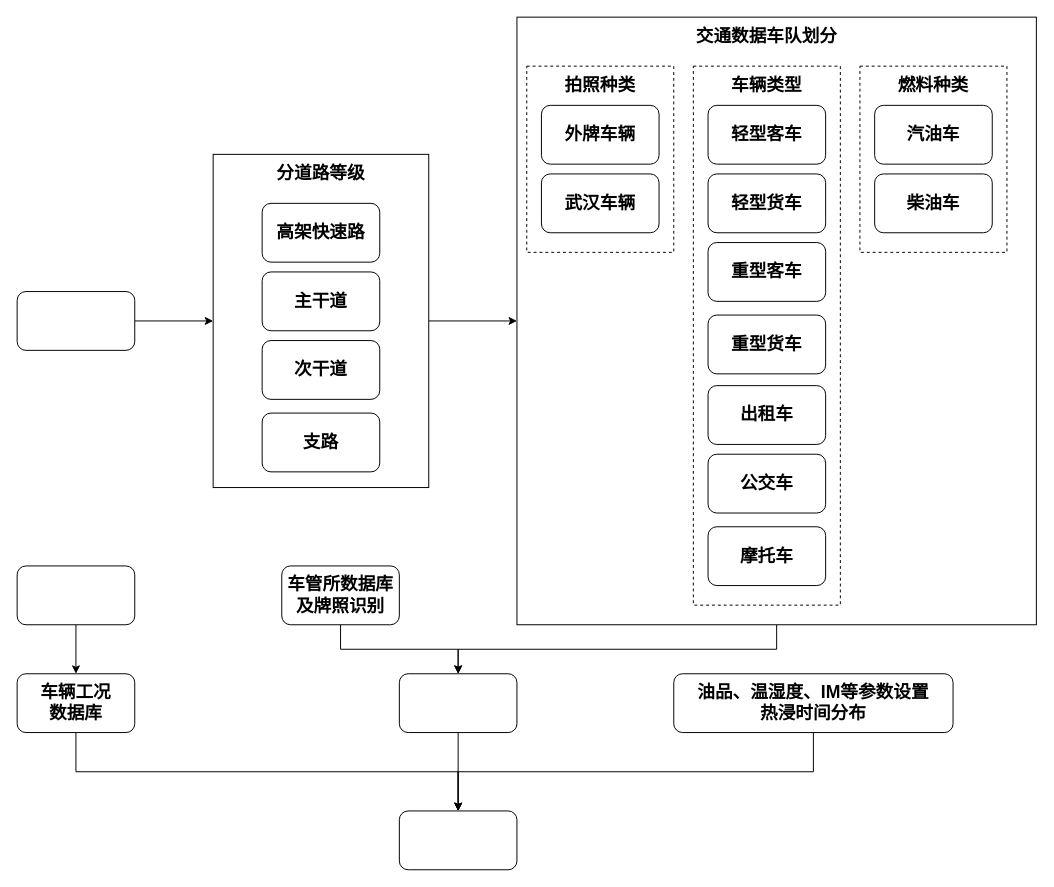
Some shapes in this 1054 by 887 pixel diagram are drawn without their labels. Here are the shapes that lost their labels. From the top down, the centre of each, then its label:
At pixel 75 320: "交通数据(车流量，车速)".
At pixel 75 595: "道路GPS数据".
At pixel 457 703: "道路车辆 技术分布".
At pixel 457 840: "IVE模型".
